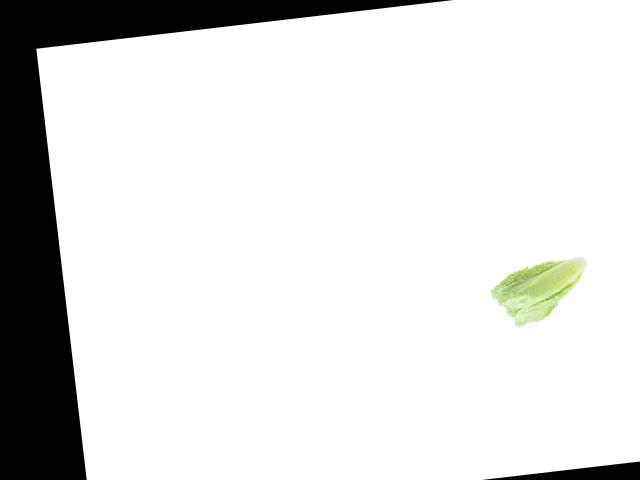lettuce: (487, 253, 602, 330)
